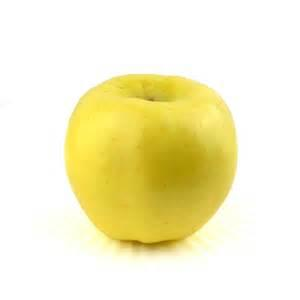apple: (62, 74, 239, 248)
